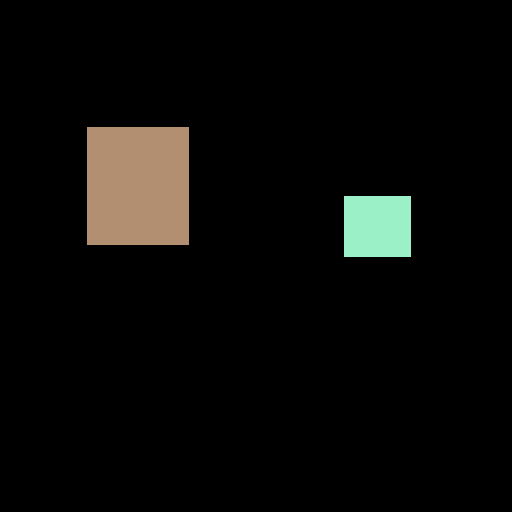rectangle: (87, 127, 188, 244)
square: (344, 196, 410, 256)
